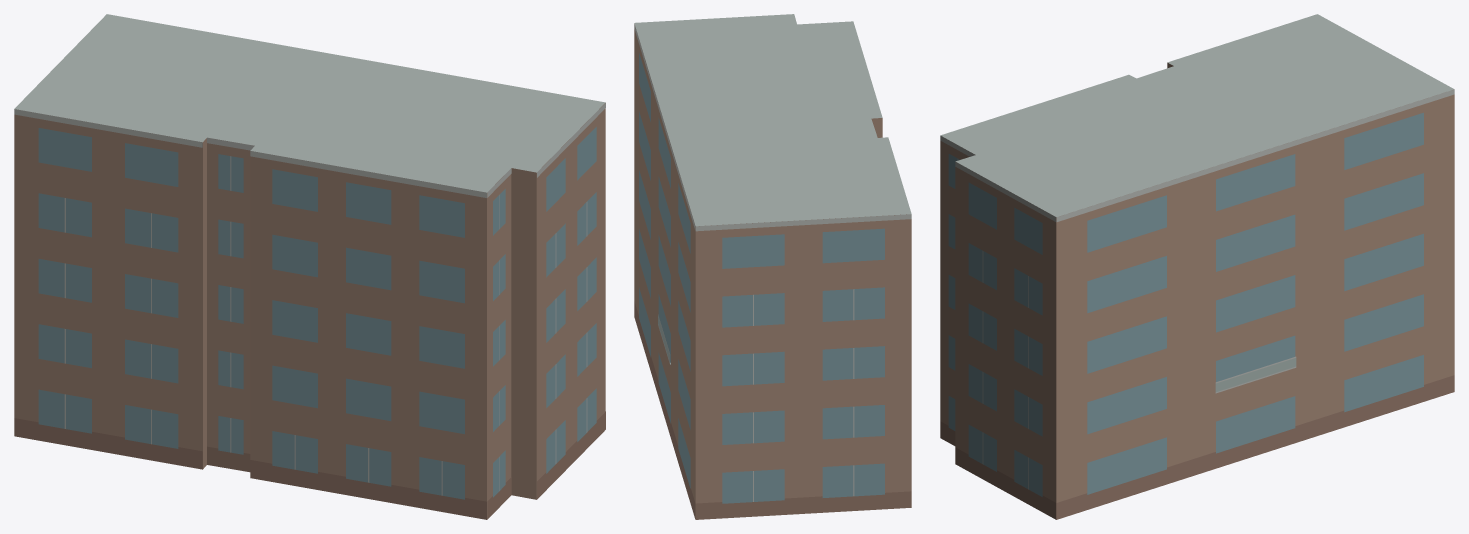
File: survey-upis-32925488.glb
3 views of the same model, side by side, from view 1: azimuth 30°, elevation 25°; view 2: azimuth 150°, elevation 25°; view 3: azimuth 270°, elevation 25° (orthographic). The views are drawn at different scales.
Parts seen in each view (by area): view 1: survey-upis-32925488.tmp; view 2: survey-upis-32925488.tmp; view 3: survey-upis-32925488.tmp.
Part boxes in pixels (x1,y1,x2,y2): survey-upis-32925488.tmp: (14, 14, 605, 519); survey-upis-32925488.tmp: (634, 14, 911, 519); survey-upis-32925488.tmp: (940, 14, 1454, 519).
Bounding box in the file's own units: 20.68 × 14.35 × 22.11.
